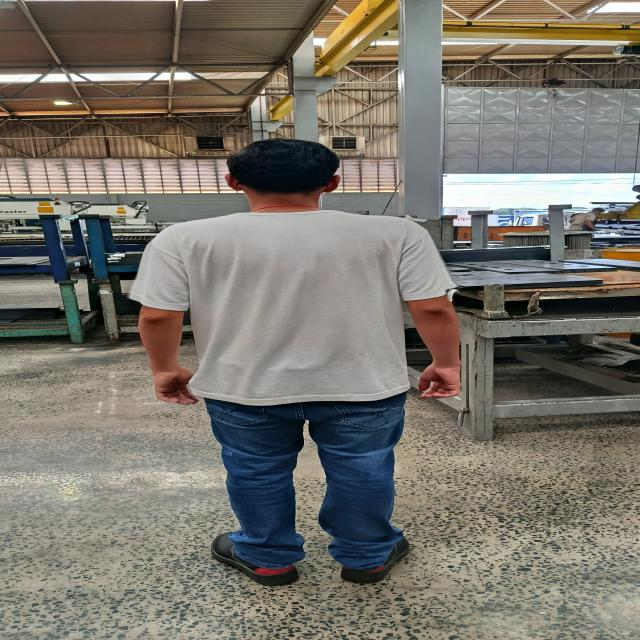oculos-epi: (327, 180, 337, 190), (230, 180, 241, 187)
